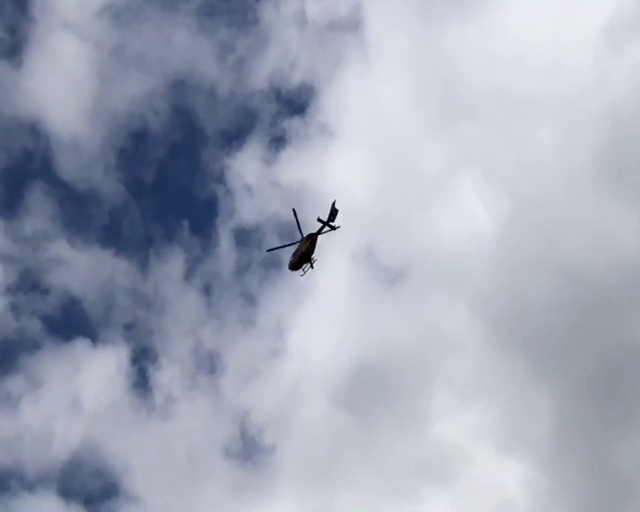HELICOPTER: (266, 199, 341, 277)
